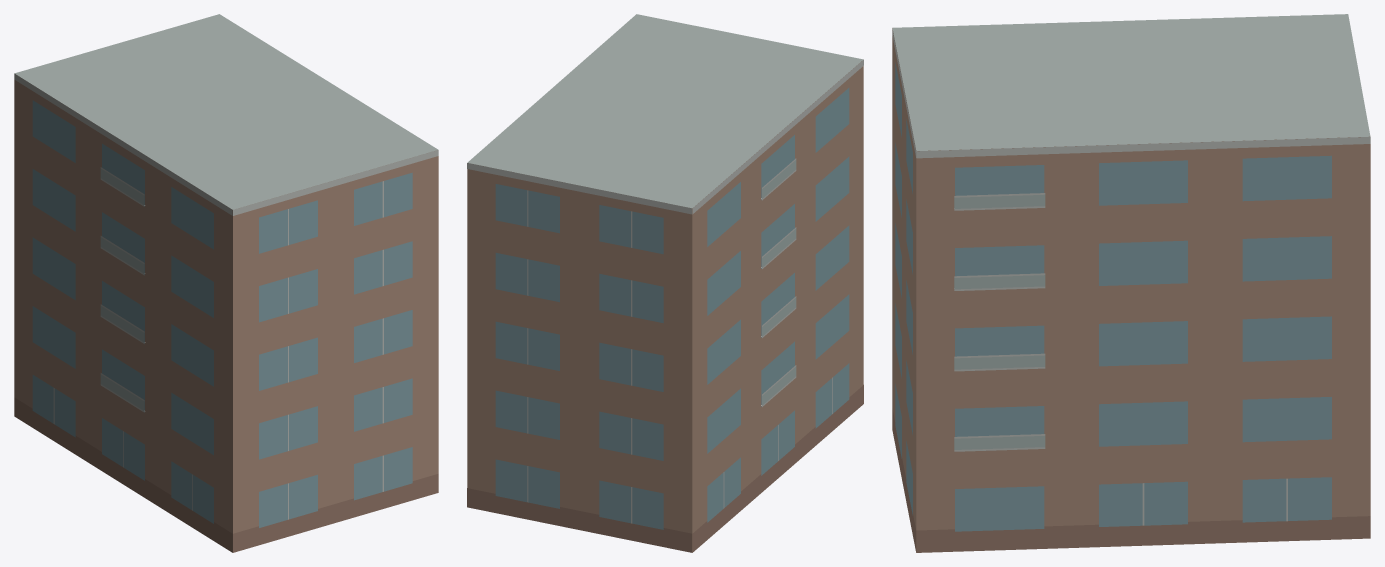
The model's file is survey-upis-32733637.glb.
3 views of the same model, side by side, from view 1: azimuth 30°, elevation 25°; view 2: azimuth 150°, elevation 25°; view 3: azimuth 270°, elevation 25° (orthographic). The views are drawn at different scales.
Visible parts, largest first — view 1: survey-upis-32733637.tmp; view 2: survey-upis-32733637.tmp; view 3: survey-upis-32733637.tmp.
Boxes of the visible parts, x1,y1,x2,y2 form: survey-upis-32733637.tmp: (14, 14, 438, 552); survey-upis-32733637.tmp: (467, 14, 863, 552); survey-upis-32733637.tmp: (892, 14, 1370, 552).
Size of the model in its own units: 9.97 by 13.6 by 14.68.
